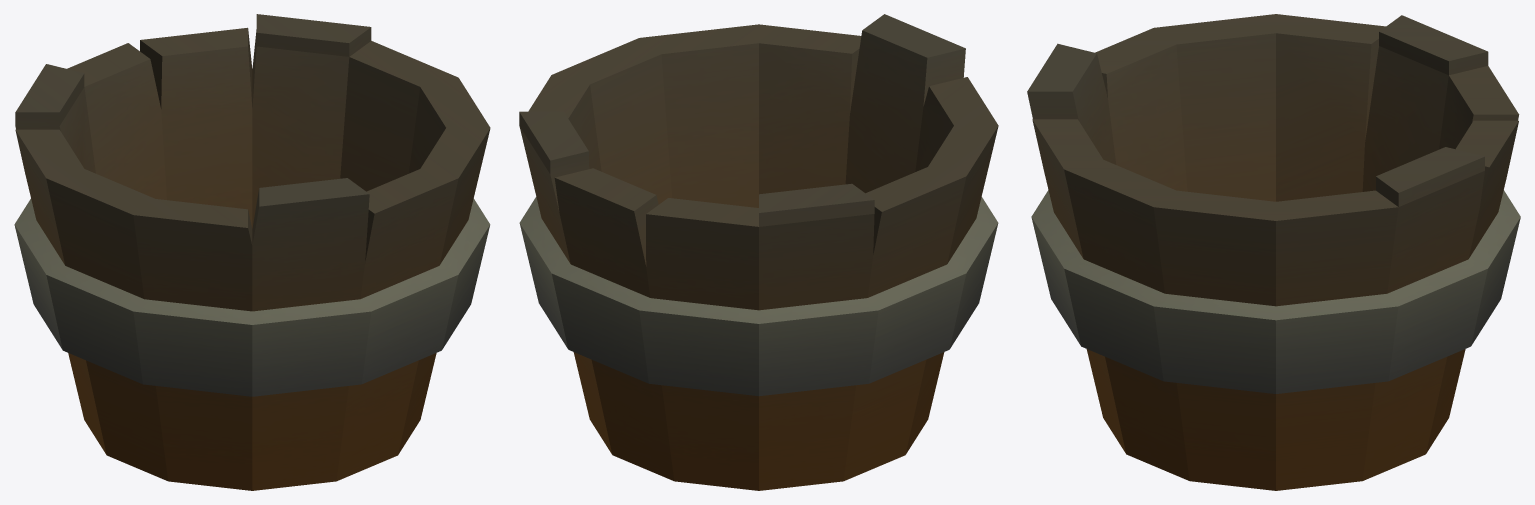
The model's file is bucket.FBX.
The picture shows the model from 3 angles, left to right: view 1: azimuth 30°, elevation 25°; view 2: azimuth 150°, elevation 25°; view 3: azimuth 270°, elevation 25°; orthographic projection. The views are drawn at different scales.
Visible parts, largest first — view 1: Cylinder001; view 2: Cylinder001; view 3: Cylinder001.
Boxes of the visible parts, x1,y1,x2,y2 form: Cylinder001: [14, 14, 490, 490]; Cylinder001: [519, 14, 998, 490]; Cylinder001: [1027, 14, 1520, 490].
Bounding box in the file's own units: 20.71 × 15.13 × 20.87.
